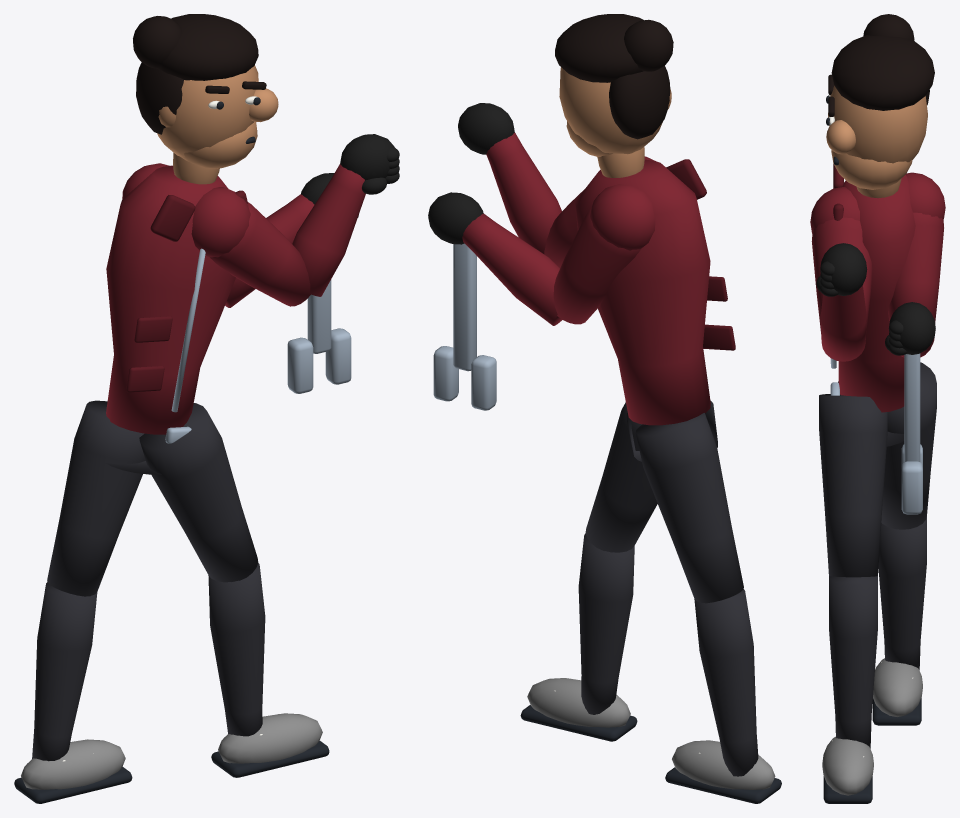
The model's file is leyla.glb.
3 views of the same model, side by side, from view 1: azimuth 30°, elevation 25°; view 2: azimuth 150°, elevation 25°; view 3: azimuth 270°, elevation 25° (orthographic). The views are drawn at different scales.
Parts seen in each view (by area): view 1: Fitted torso.004, Trouser thigh.009, Trouser thigh.008, Lower leg.009, Lower leg.008, Forearm.008, Upper arm.008, Hair crown.004, Head.004, Boot.008, Boot.009, Rounded shoulder.008 (+16 smaller); view 2: Fitted torso.004, Trouser thigh.009, Lower leg.009, Lower leg.008, Trouser thigh.008, Forearm.009, Upper arm.009, Forearm.008, Hair crown.004, Head.004, Hair back.002, Rounded shoulder.009 (+14 smaller); view 3: Trouser thigh.008, Fitted torso.004, Lower leg.008, Hair crown.004, Lower leg.009, Head.004, Trouser thigh.009, Upper arm.009, Forearm.008, Boot.008, Boot.009, Upper arm.008 (+12 smaller).
Part boxes in pixels (x1,y1,x2,y2): Fitted torso.004: (106, 165, 235, 434); Trouser thigh.009: (47, 400, 145, 596); Trouser thigh.008: (139, 403, 258, 582); Lower leg.009: (32, 582, 97, 761); Lower leg.008: (208, 563, 265, 736); Forearm.008: (292, 163, 365, 296); Upper arm.008: (210, 202, 310, 306); Hair crown.004: (157, 14, 258, 80); Head.004: (157, 65, 258, 156); Boot.008: (218, 713, 322, 763); Boot.009: (21, 739, 125, 789); Rounded shoulder.008: (191, 187, 250, 257); Fitted torso.004: (575, 159, 710, 425); Trouser thigh.009: (635, 413, 743, 603); Lower leg.009: (694, 589, 758, 776); Lower leg.008: (578, 533, 634, 714); Trouser thigh.008: (585, 402, 657, 552); Forearm.009: (462, 213, 562, 325); Upper arm.009: (553, 208, 641, 324); Forearm.008: (486, 132, 561, 253); Hair crown.004: (555, 14, 643, 82); Head.004: (559, 67, 662, 154); Hair back.002: (609, 65, 670, 139); Rounded shoulder.009: (590, 184, 655, 250); Trouser thigh.008: (819, 394, 887, 577); Fitted torso.004: (838, 175, 915, 412); Lower leg.008: (829, 576, 877, 748); Hair crown.004: (831, 35, 934, 110); Lower leg.009: (878, 516, 926, 669); Head.004: (828, 85, 927, 163); Trouser thigh.009: (881, 362, 936, 529); Upper arm.009: (888, 212, 943, 323); Forearm.008: (820, 285, 866, 361); Boot.008: (822, 736, 873, 795); Boot.009: (873, 658, 922, 716); Upper arm.008: (811, 217, 872, 333).
Size of the model in its own units: 72.41 by 151 by 25.39.
